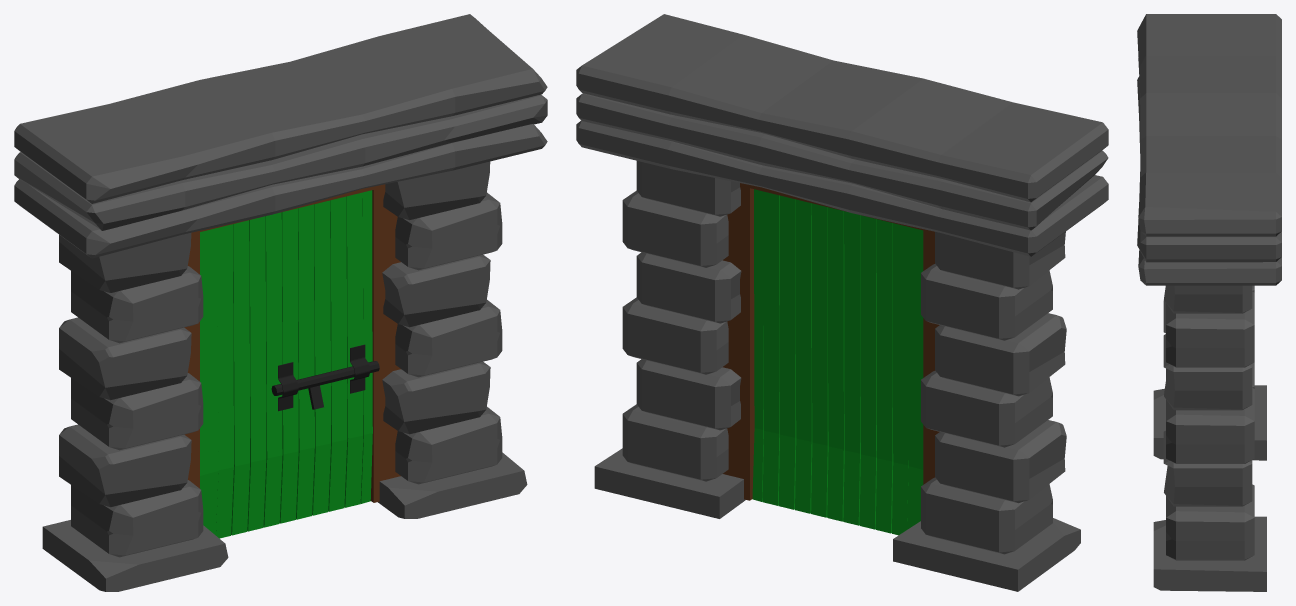
Rendered from door_green.fbx.
3 renders of one model, left to right at view 1: azimuth 30°, elevation 25°; view 2: azimuth 150°, elevation 25°; view 3: azimuth 270°, elevation 25°, orthographic. The views are drawn at different scales.
Visible parts, largest first — view 1: door_green; view 2: door_green; view 3: door_green.
Boxes of the visible parts, <box> form: door_green: <box>14,14,547,591</box>; door_green: <box>576,14,1108,591</box>; door_green: <box>1137,14,1281,591</box>.
Bounding box in the file's own units: 192 × 170 × 58.06.
1 material, 1 textured.
